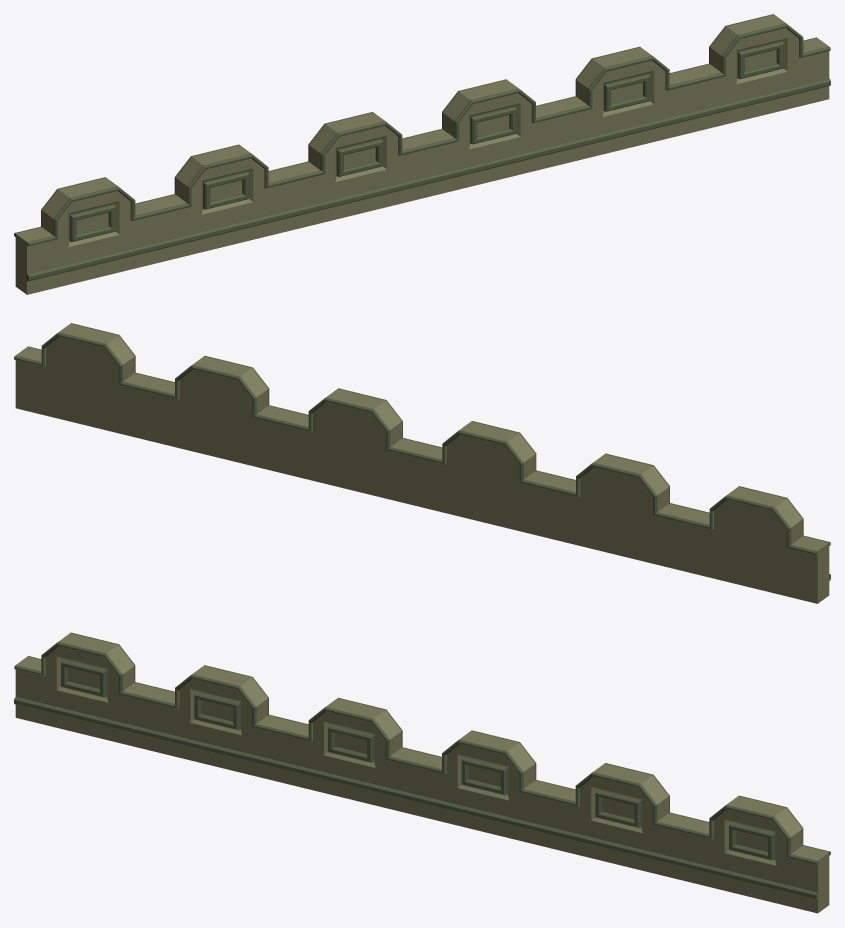
Rendered from wall_verysmall.fbx.
3 renders of one model, top to bottom at view 1: azimuth 30°, elevation 25°; view 2: azimuth 150°, elevation 25°; view 3: azimuth 330°, elevation 25°, orthographic.
Visible parts, largest first — view 1: wall_verysmall; view 2: wall_verysmall; view 3: wall_verysmall.
Part boxes in pixels (x1,y1,x2,y2): wall_verysmall: (14,14,830,294); wall_verysmall: (14,323,830,603); wall_verysmall: (14,632,830,913).
Bounding box in the file's own units: 14.66 × 1.51 × 0.4715.
